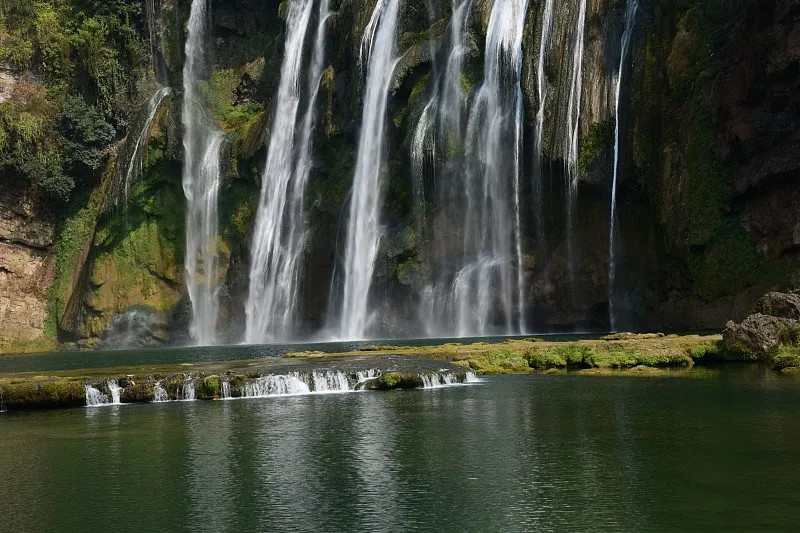Huangguoshu: (183, 1, 618, 340)
